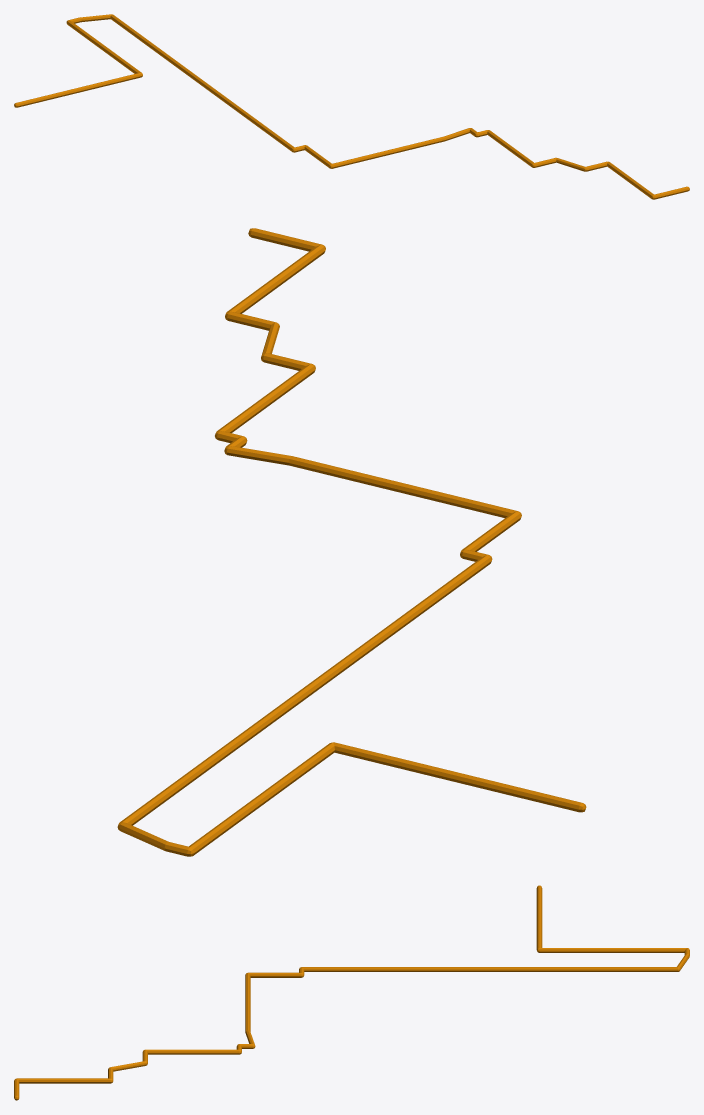
3 views of the same model, one above another, from view 1: azimuth 30°, elevation 25°; view 2: azimuth 150°, elevation 25°; view 3: azimuth 270°, elevation 25° (orthographic). The views are drawn at different scales.
Bounding box in the file's own units: 1870 × 20 × 2515.
